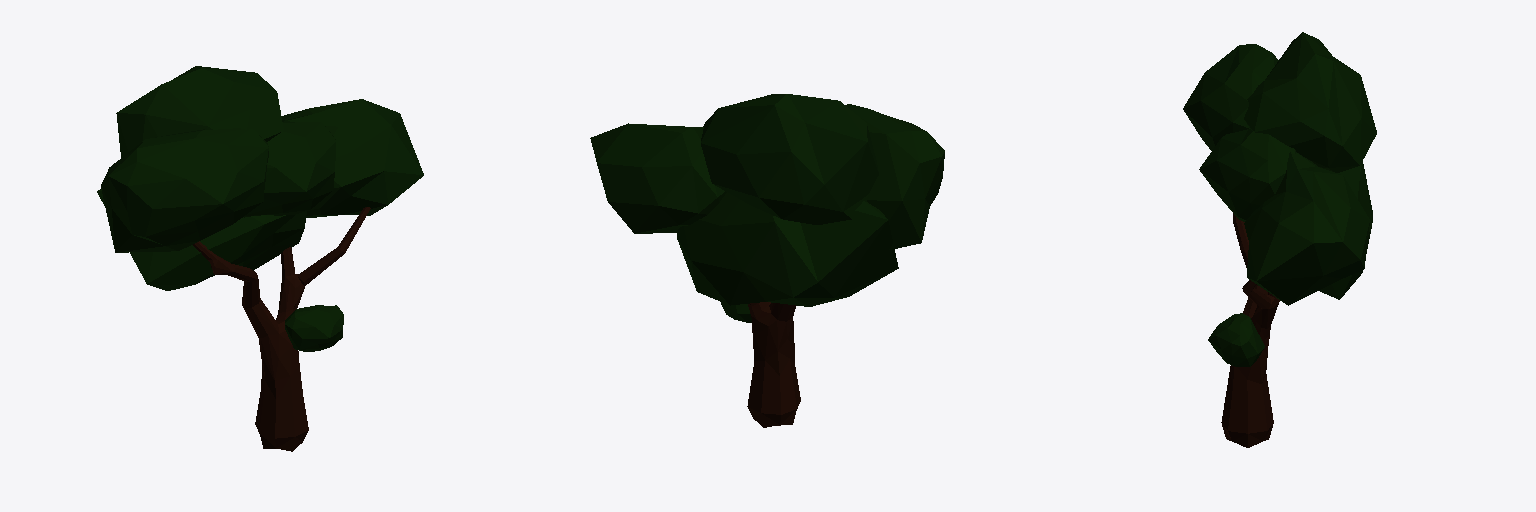
The model's file is Tree2.2.obj.
The picture shows the model from 3 angles: view 1: azimuth 30°, elevation 25°; view 2: azimuth 150°, elevation 25°; view 3: azimuth 270°, elevation 25°; orthographic projection.
Parts seen in each view (by area): view 1: Tree2.2_Cube.001; view 2: Tree2.2_Cube.001; view 3: Tree2.2_Cube.001.
Boxes of the visible parts, <box> form: Tree2.2_Cube.001: <box>97,66,423,451</box>; Tree2.2_Cube.001: <box>590,94,944,427</box>; Tree2.2_Cube.001: <box>1183,32,1376,447</box>.
Size of the model in its own units: 6.49 by 7.09 by 3.4.